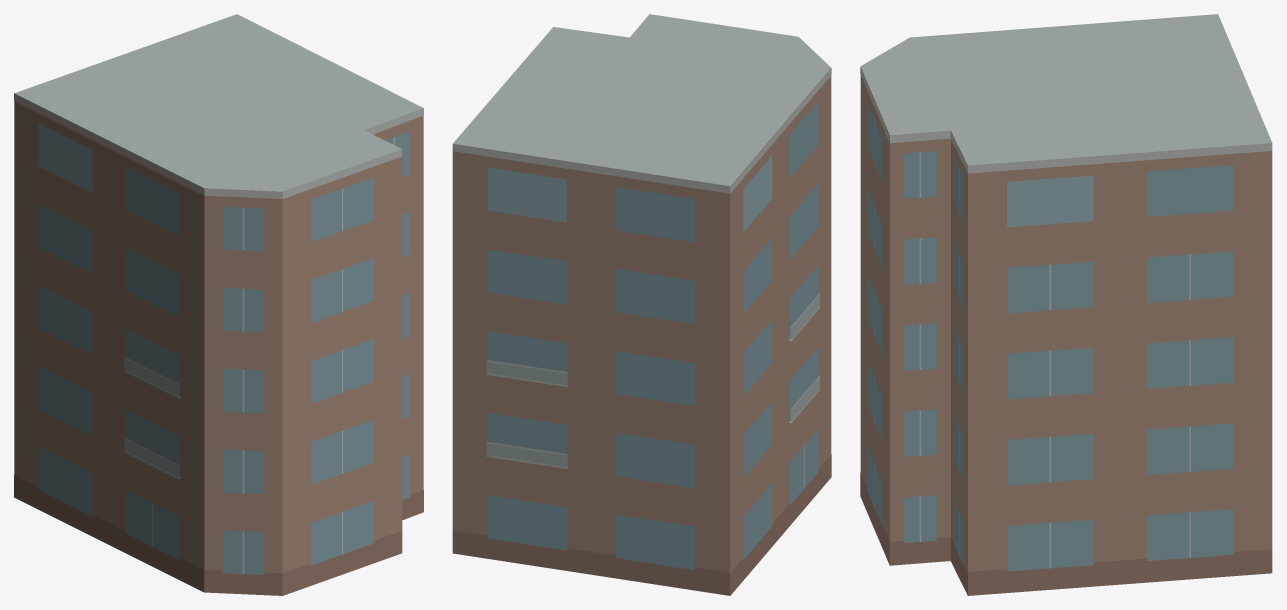
Rendered from survey-upis-32704828.glb.
3 views of the same model, side by side, from view 1: azimuth 30°, elevation 25°; view 2: azimuth 150°, elevation 25°; view 3: azimuth 270°, elevation 25° (orthographic). The views are drawn at different scales.
Parts seen in each view (by area): view 1: survey-upis-32704828.tmp; view 2: survey-upis-32704828.tmp; view 3: survey-upis-32704828.tmp.
Boxes of the visible parts, x1,y1,x2,y2 form: survey-upis-32704828.tmp: (14,14,423,595); survey-upis-32704828.tmp: (452,14,831,595); survey-upis-32704828.tmp: (860,14,1272,595).
Bounding box in the file's own units: 10.11 × 13.35 × 11.6.
